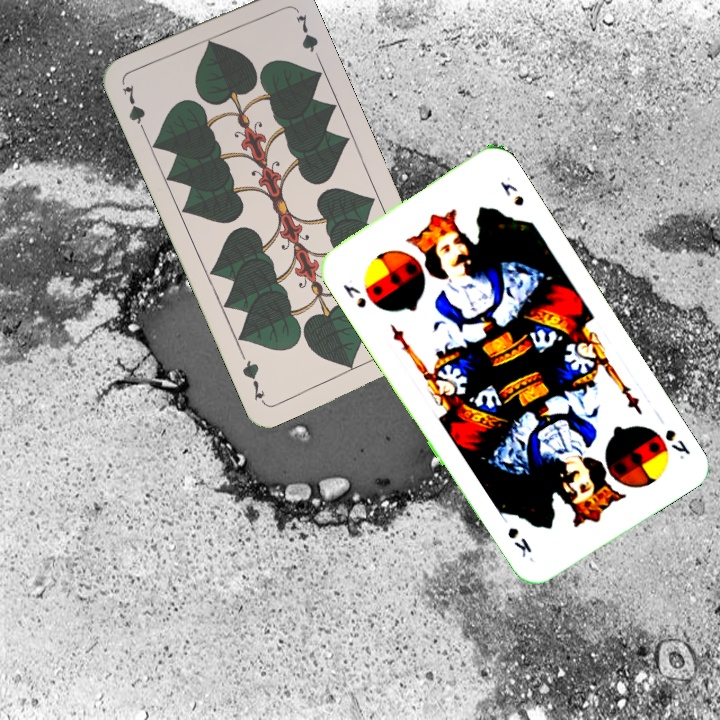G7: (118, 80, 150, 138)
SK: (661, 425, 693, 462), (338, 280, 369, 311)
